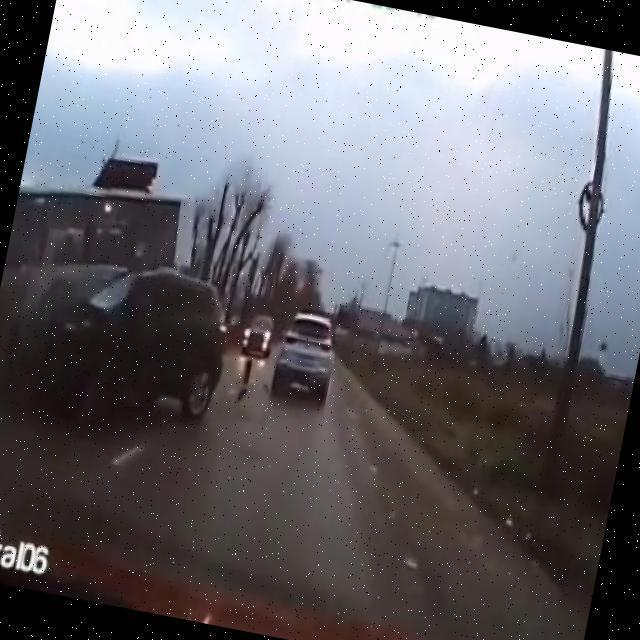accident: (0, 169, 259, 441)
